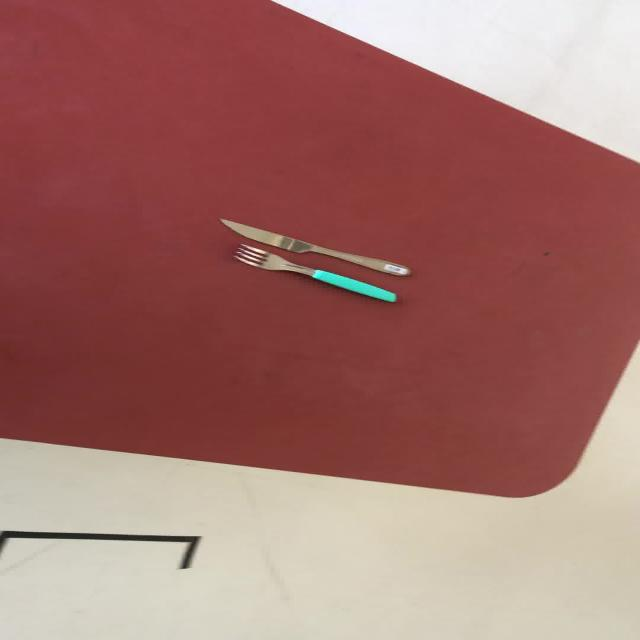fork: (232, 243, 397, 303)
knife fork: (216, 217, 411, 276)
